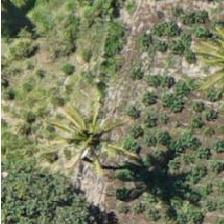coconut_tree: (44, 87, 134, 177)
